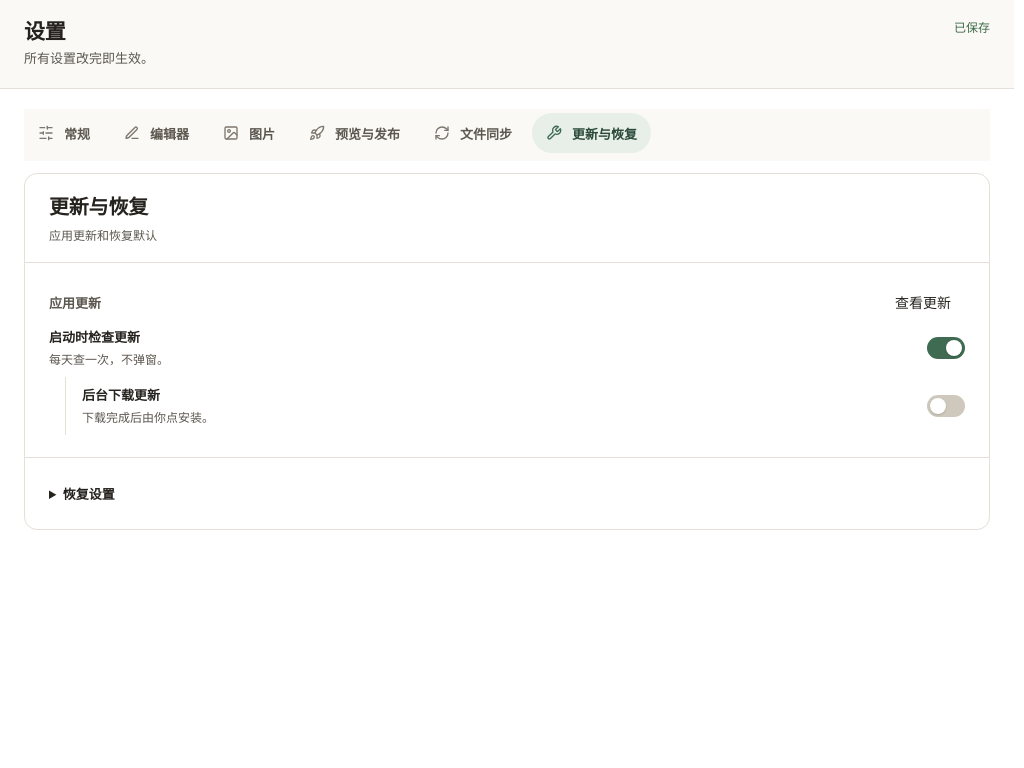
Test: settings interaction recovery › keeps automatic download opt-in and preserves it when toggling startup checks
Click the checkbox labelled "后台下载更新" at x=121, y=395, box x1=82 y1=386 x2=160 y2=404
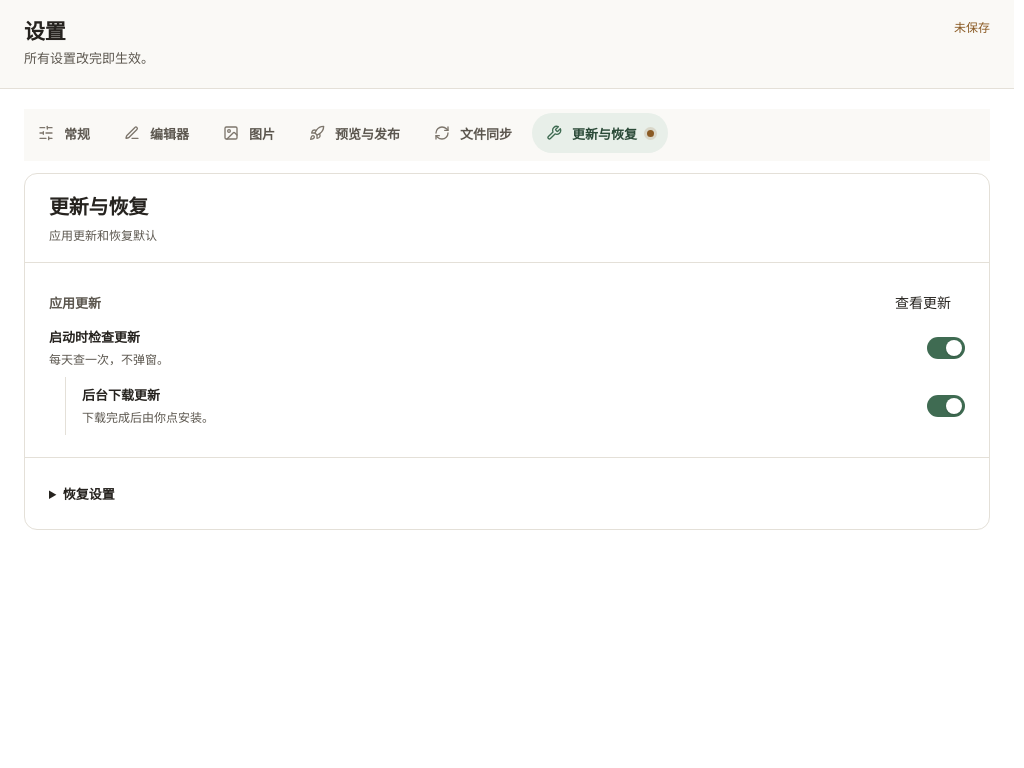
Click the checkbox labelled "启动时检查更新" at x=94, y=337, box x1=49 y1=328 x2=140 y2=346
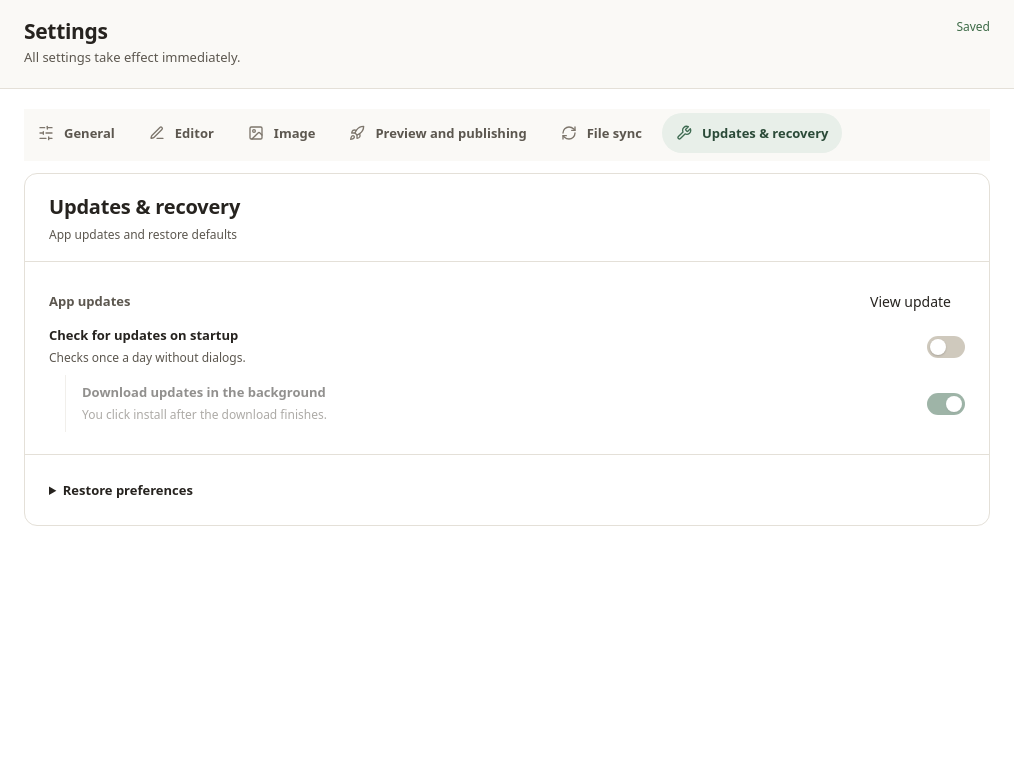
Check: the checkbox named "后台下载更新" is checked, box x1=82 y1=383 x2=326 y2=401
Check: the checkbox named "后台下载更新" is disabled, box x1=82 y1=383 x2=326 y2=401
